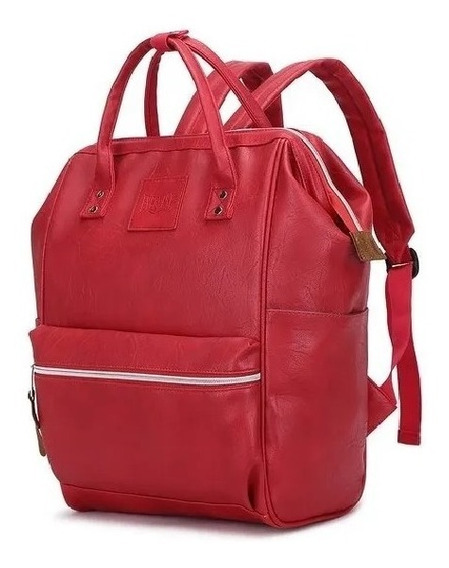cartera: (23, 27, 427, 534)
